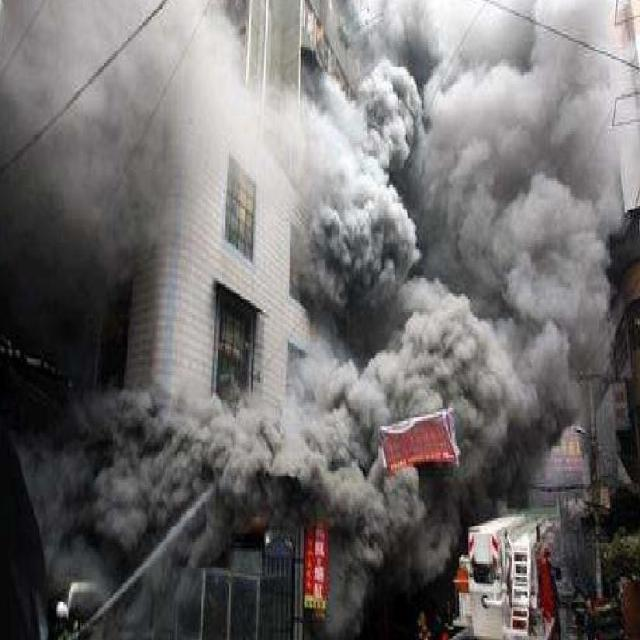Smoke: (280, 0, 638, 505), (19, 388, 457, 638), (0, 0, 305, 315)
